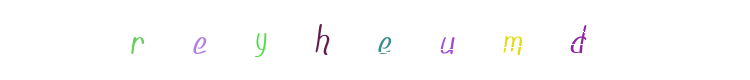D: (473, 0, 553, 80)
E: (282, 0, 362, 80), (334, 0, 414, 80)
H: (313, 0, 393, 80)
M: (472, 0, 552, 80)
R: (167, 0, 247, 80)
U: (344, 0, 424, 80)
Y: (301, 0, 381, 80)
